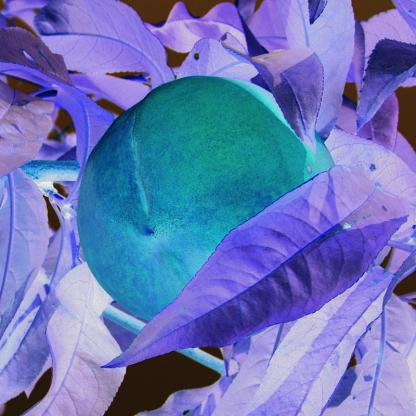peach leaf: (103, 171, 333, 371), (19, 254, 128, 415), (36, 1, 177, 92), (216, 35, 322, 154), (355, 36, 415, 127)
